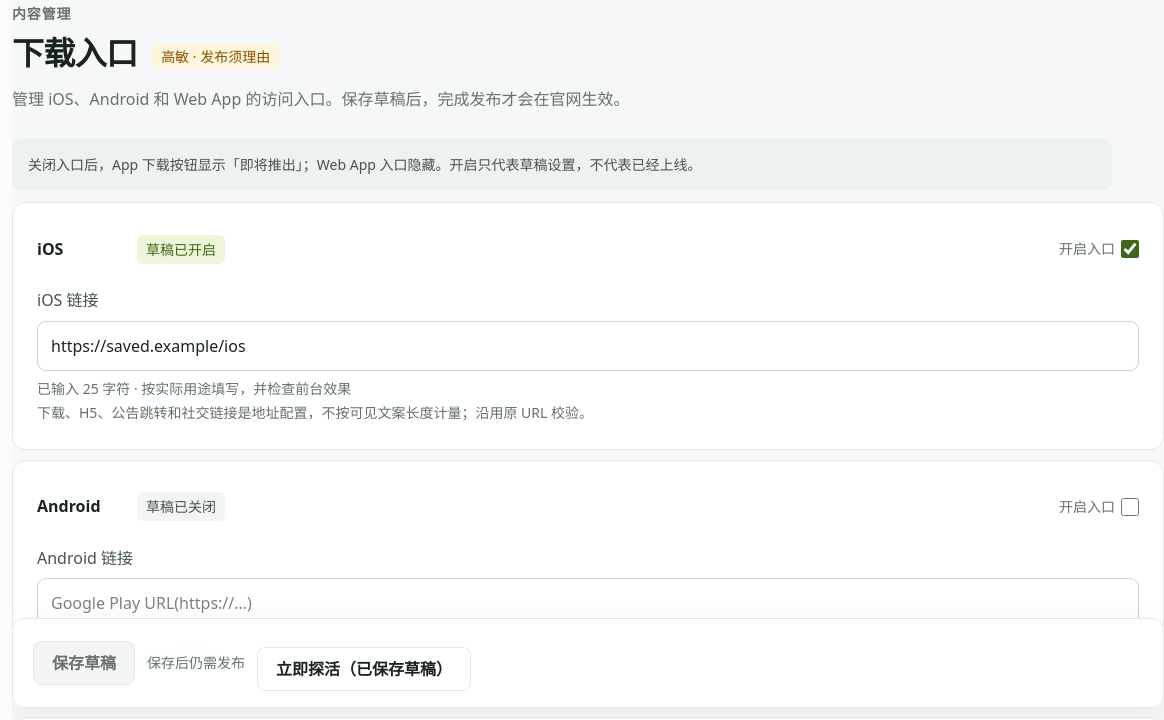
download probe identity › labels results as the saved draft and hides them as soon as local input diverges
Click the button "立即探活（已保存草稿）".
click(364, 669)  # box [257, 647, 471, 691]
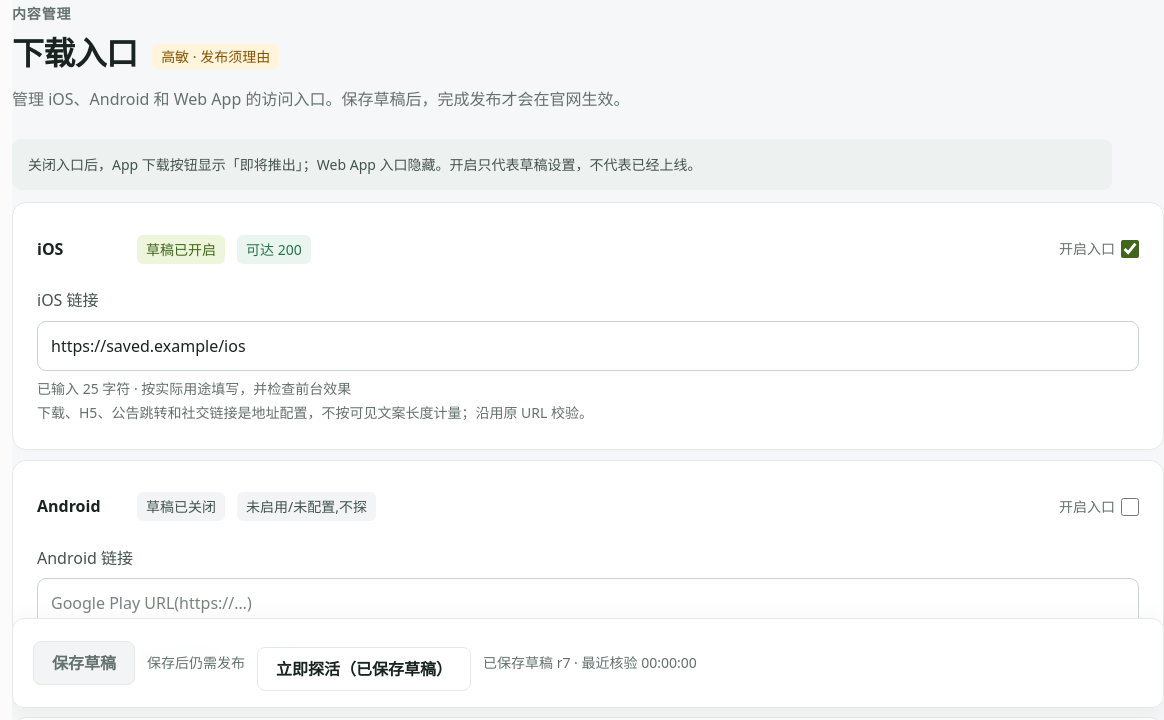
Check: the text "可达 200" is shown, box [237, 235, 311, 264]
Check: the text "已保存草稿 r7 · 最近核验 00:00:00" is shown, box [483, 651, 697, 675]
Replace the text in the field with placeholder "App Store URL(https://…)" with "https://new.example/ios" at (588, 346), box [37, 321, 1139, 371]
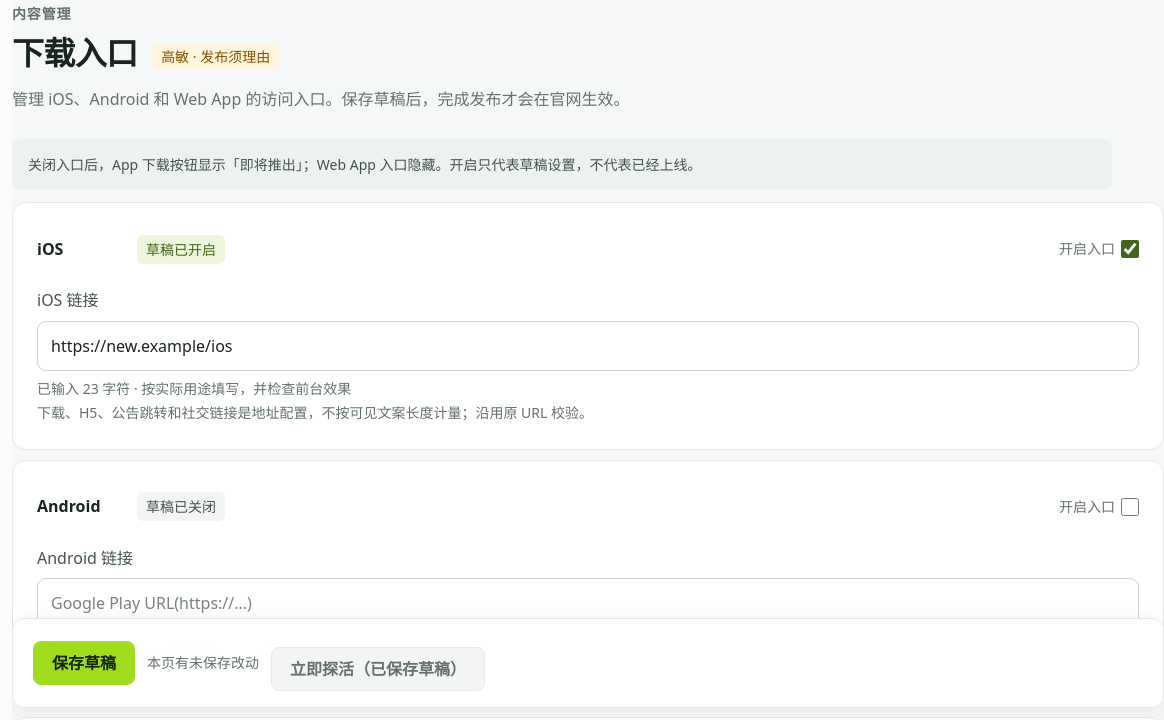
Check: the text "可达 200" is gone
Check: the button "立即探活（已保存草稿）" is disabled, box [271, 647, 485, 691]
